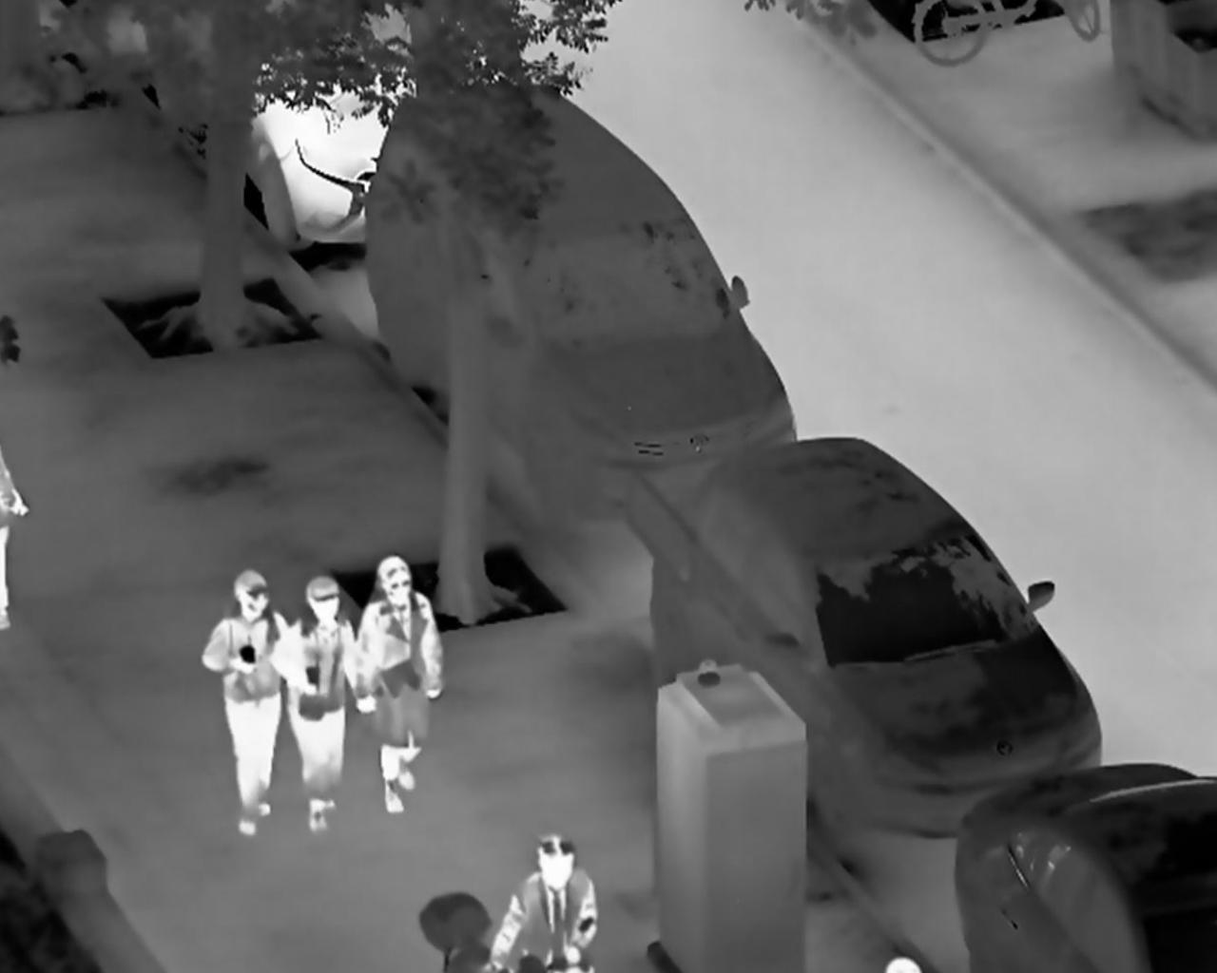person: (353, 553, 447, 817), (199, 567, 287, 836), (270, 575, 357, 837), (483, 832, 601, 973)
